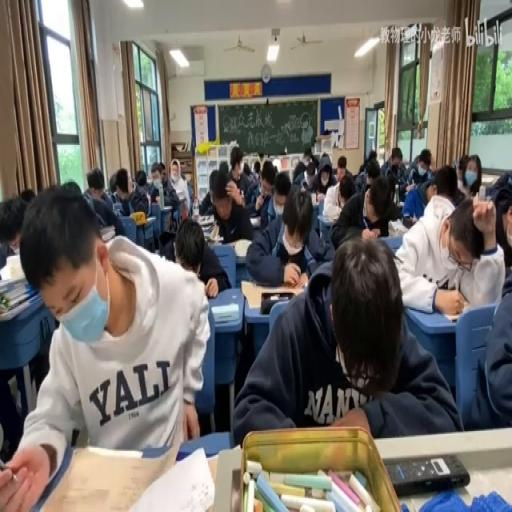calculator: (240, 274, 304, 308), (0, 292, 38, 320), (88, 444, 142, 458), (210, 302, 238, 324), (233, 236, 253, 258), (387, 218, 408, 236), (442, 308, 466, 322), (99, 223, 116, 242), (160, 202, 173, 218), (200, 219, 214, 233), (326, 209, 340, 222), (203, 232, 218, 243), (174, 188, 186, 200), (249, 215, 261, 226), (310, 195, 321, 206), (143, 216, 156, 225), (396, 199, 403, 209)
paper: (4, 183, 206, 512), (234, 234, 456, 444), (462, 240, 510, 431), (245, 182, 331, 284), (198, 168, 256, 246), (403, 156, 455, 222), (82, 166, 128, 236), (331, 175, 374, 247), (144, 161, 182, 232), (446, 199, 482, 265), (0, 193, 30, 265), (313, 154, 338, 194), (380, 145, 406, 182), (291, 148, 317, 182), (242, 171, 261, 206), (489, 170, 512, 196), (454, 152, 469, 186), (260, 161, 276, 189), (366, 161, 380, 189), (274, 180, 290, 204), (401, 161, 416, 182), (230, 145, 242, 171), (466, 164, 480, 186), (61, 180, 80, 194), (81, 190, 93, 212), (108, 171, 118, 195), (19, 188, 36, 202), (147, 178, 160, 196), (134, 168, 146, 185), (186, 178, 192, 212), (337, 158, 346, 175), (218, 161, 228, 176), (253, 159, 260, 178), (356, 162, 366, 175), (157, 170, 166, 184), (367, 149, 376, 162), (242, 162, 250, 175), (428, 155, 434, 169)
person: (385, 452, 470, 494)
